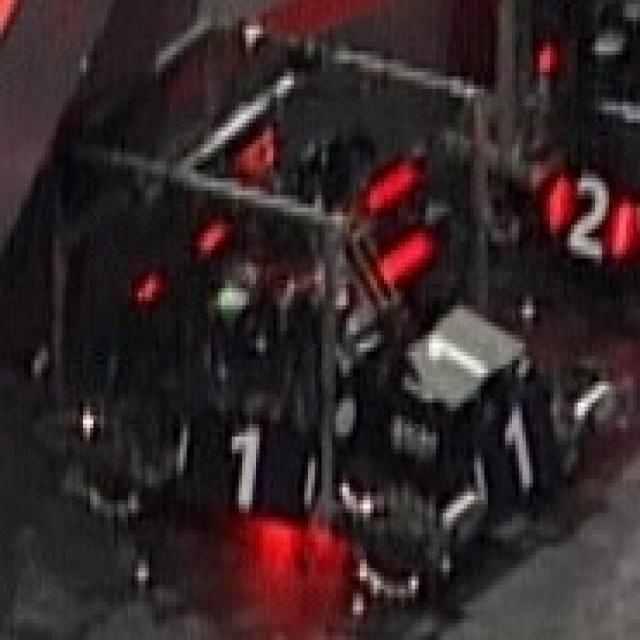R2: (546, 165, 636, 267)
